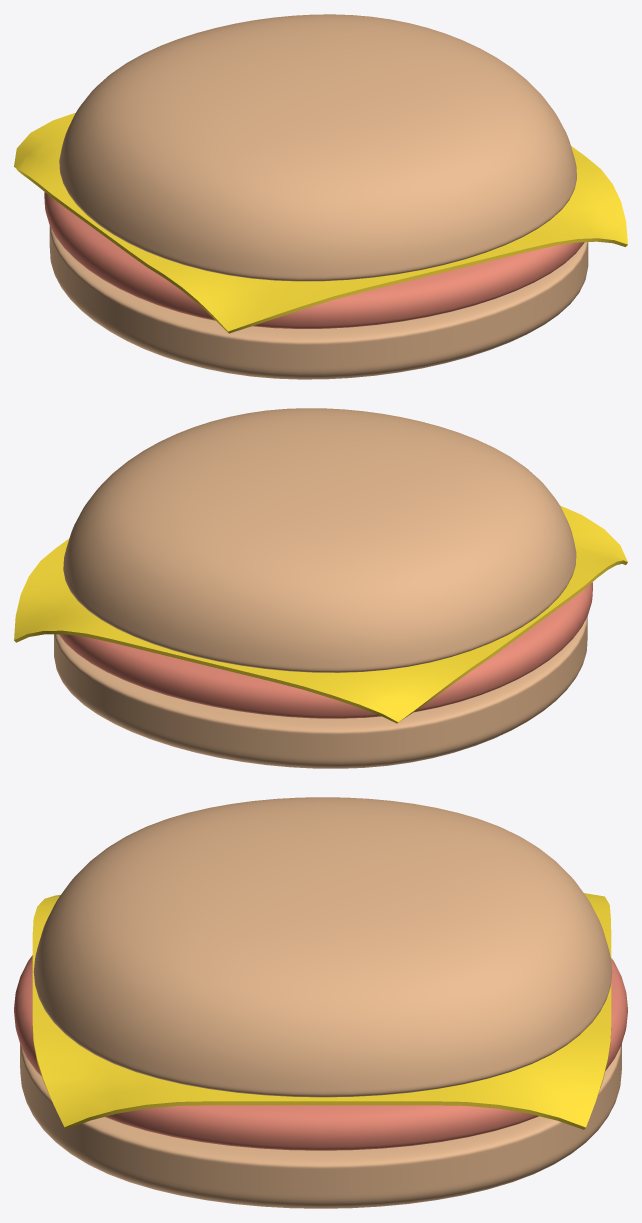
File: hamburger.glb
3 views of the same model, one above another, from view 1: azimuth 30°, elevation 25°; view 2: azimuth 150°, elevation 25°; view 3: azimuth 270°, elevation 25° (orthographic). The views are drawn at different scales.
Parts seen in each view (by area): view 1: Cube.002, Cube, Plane, Cube.001; view 2: Cube.002, Cube, Plane, Cube.001; view 3: Cube.002, Cube, Plane, Cube.001.
Part boxes in pixels (<box>): Cube.002: <box>59,14,576,281</box>; Cube: <box>49,226,588,379</box>; Plane: <box>14,112,627,333</box>; Cube.001: <box>44,192,584,328</box>; Cube.002: <box>63,408,576,672</box>; Cube: <box>54,616,587,768</box>; Plane: <box>14,505,627,723</box>; Cube.001: <box>59,582,592,718</box>; Cube.002: <box>33,797,612,1097</box>; Cube: <box>20,1044,621,1208</box>; Plane: <box>32,893,611,1129</box>; Cube.001: <box>14,955,627,1150</box>.
Bounding box in the file's own units: 8.4 × 3.63 × 8.4.
